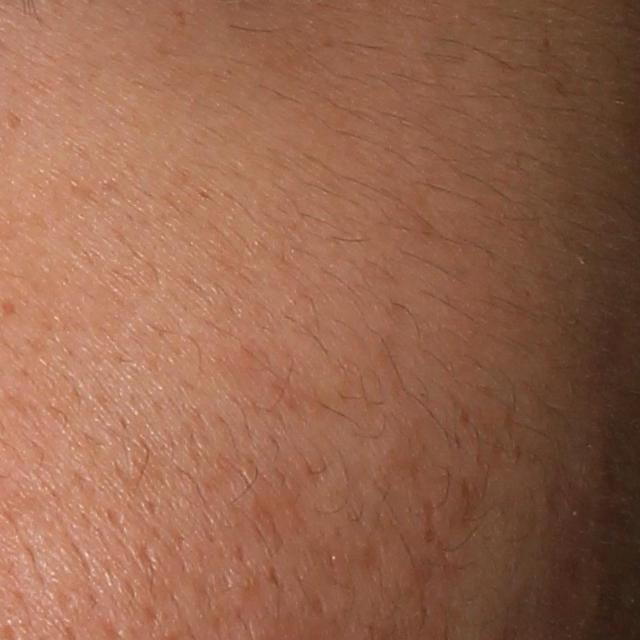melasma: (3, 108, 24, 131)
